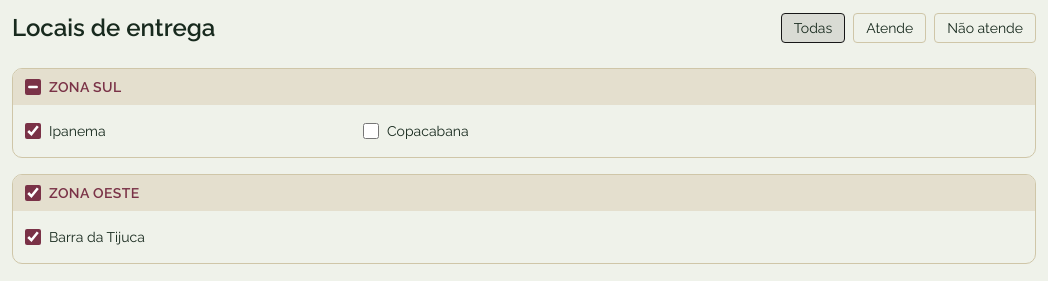
Test: EntregasPage › the "Atende" filter hides non-covered bairros without hiding their region header
Check: the text "Ipanema" is shown, box 49,121 -> 106,141
Click the button "Atende" at (890, 28), box 853,13 -> 926,43
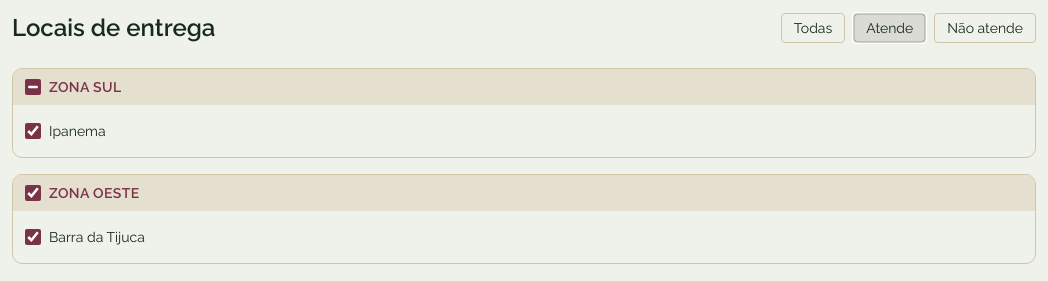
Check: the text "Ipanema" is shown, box 49,121 -> 106,141
Check: the text "Copacabana" is gone
